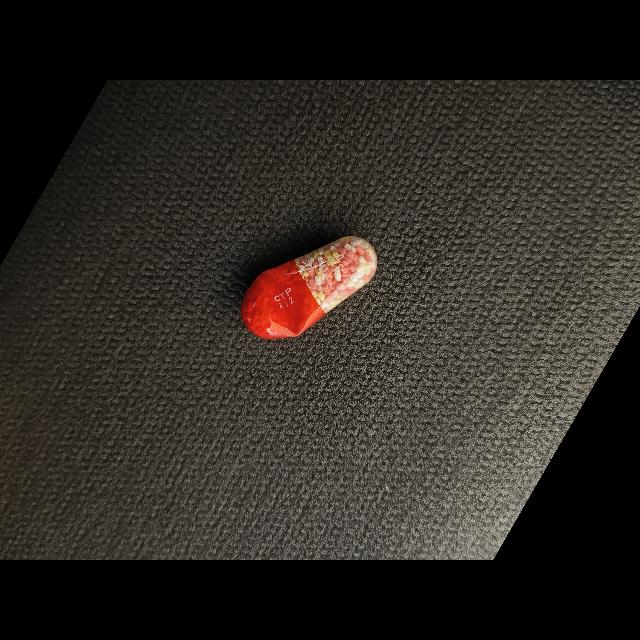Defective Capsule: (241, 236, 377, 339)
